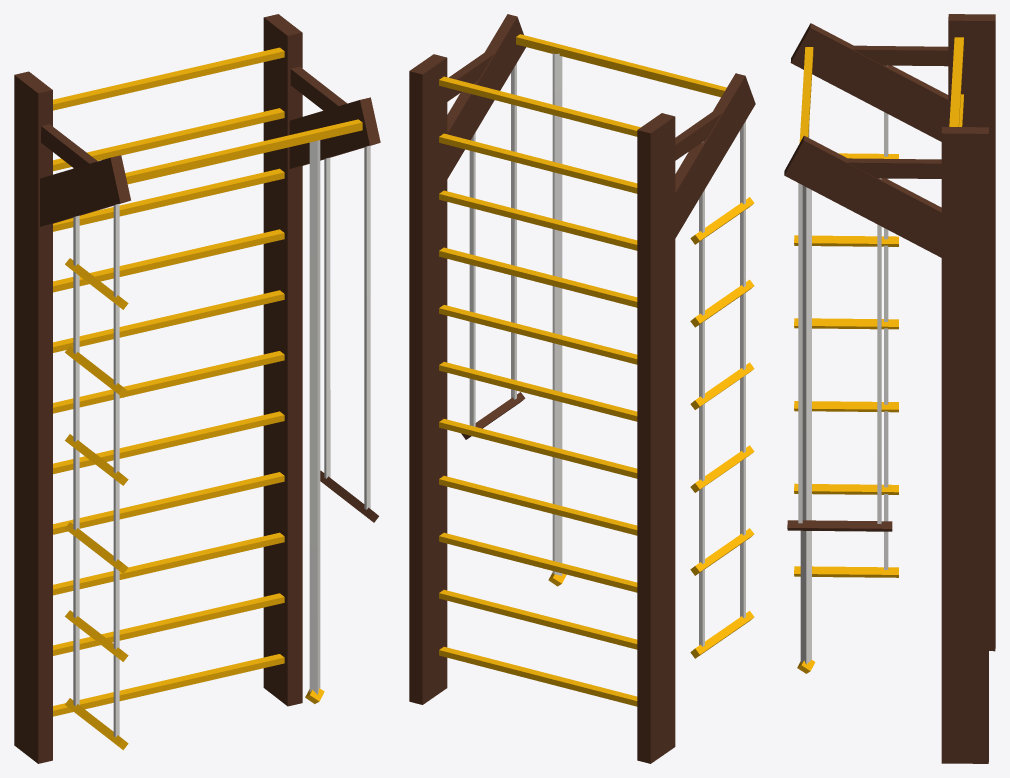
Rendered from swedish wall bar.fbx.
3 renders of one model, left to right at view 1: azimuth 30°, elevation 25°; view 2: azimuth 150°, elevation 25°; view 3: azimuth 270°, elevation 25°, orthographic. The views are drawn at different scales.
Visible parts, largest first — view 1: swedish wall bar; view 2: swedish wall bar; view 3: swedish wall bar.
Part boxes in pixels (x1,y1,x2,y2): swedish wall bar: (14, 14, 380, 763); swedish wall bar: (409, 14, 755, 763); swedish wall bar: (784, 14, 995, 763).
Size of the model in its own units: 84.36 by 205 by 62.32.
